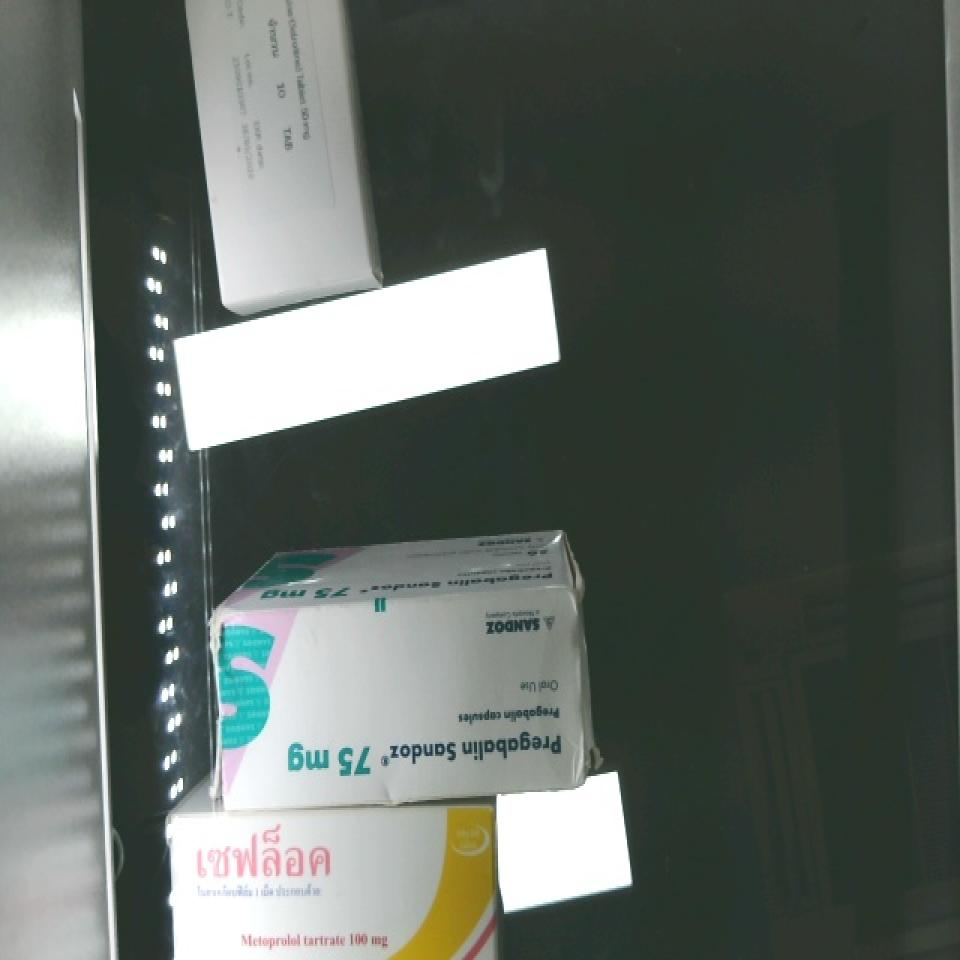medicine_box: (207, 579, 594, 812), (185, 0, 373, 301), (171, 804, 498, 960)
medicine_label_obb: (274, 709, 570, 792), (171, 817, 347, 898)
